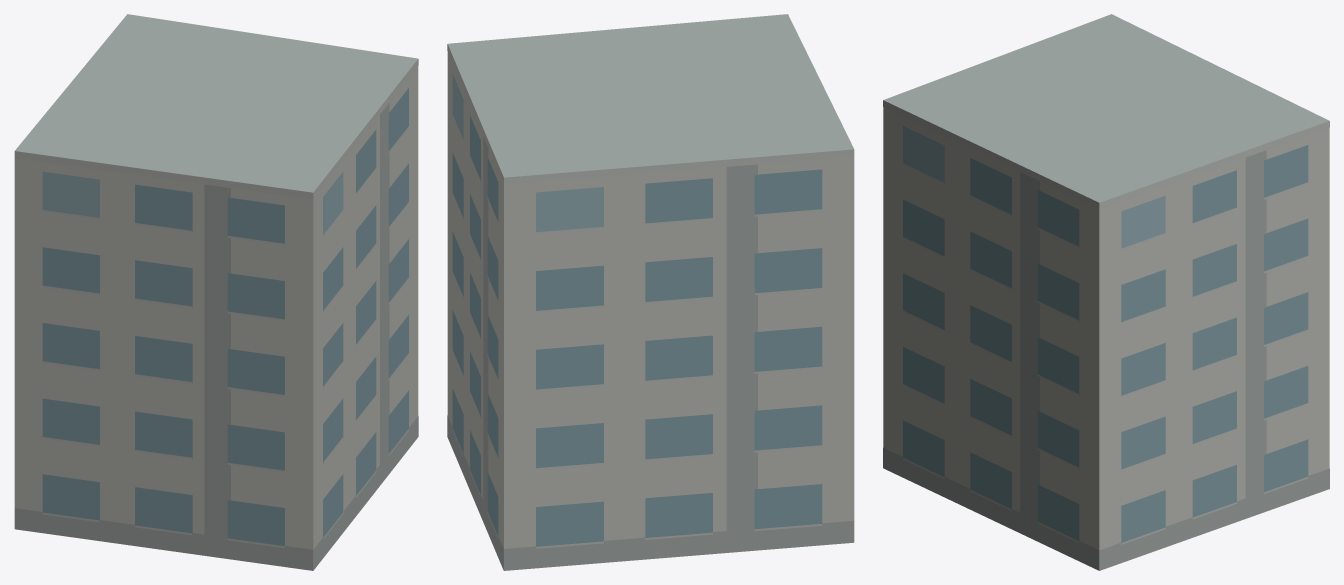
The model's file is survey-upis-32882464.glb.
The picture shows the model from 3 angles, left to right: view 1: azimuth 30°, elevation 25°; view 2: azimuth 150°, elevation 25°; view 3: azimuth 270°, elevation 25°; orthographic projection. The views are drawn at different scales.
Parts seen in each view (by area): view 1: survey-upis-32882464.tmp; view 2: survey-upis-32882464.tmp; view 3: survey-upis-32882464.tmp.
Boxes of the visible parts, x1,y1,x2,y2 form: survey-upis-32882464.tmp: [14, 14, 418, 570]; survey-upis-32882464.tmp: [447, 14, 854, 570]; survey-upis-32882464.tmp: [883, 14, 1329, 570].
Size of the model in its own units: 14.53 by 13.2 by 14.52.
